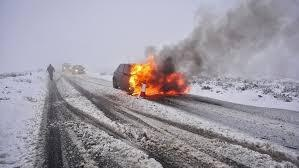fire: (126, 53, 192, 97)
